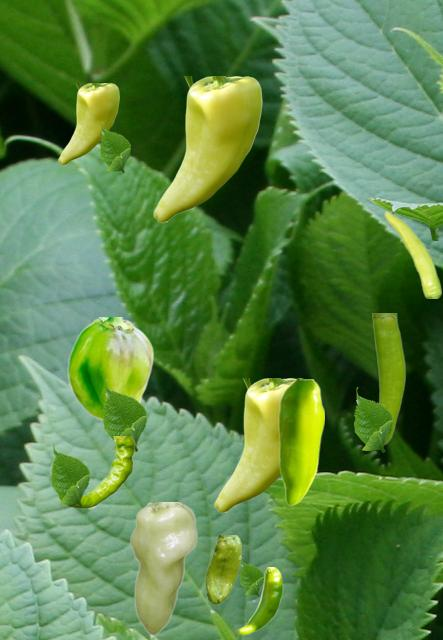green_chili: (153, 76, 261, 222), (214, 378, 305, 512), (67, 317, 153, 422), (129, 502, 196, 634), (278, 379, 323, 505), (57, 436, 134, 508), (384, 210, 440, 297), (58, 83, 118, 164), (371, 313, 404, 445), (236, 567, 282, 634), (205, 535, 240, 603)
